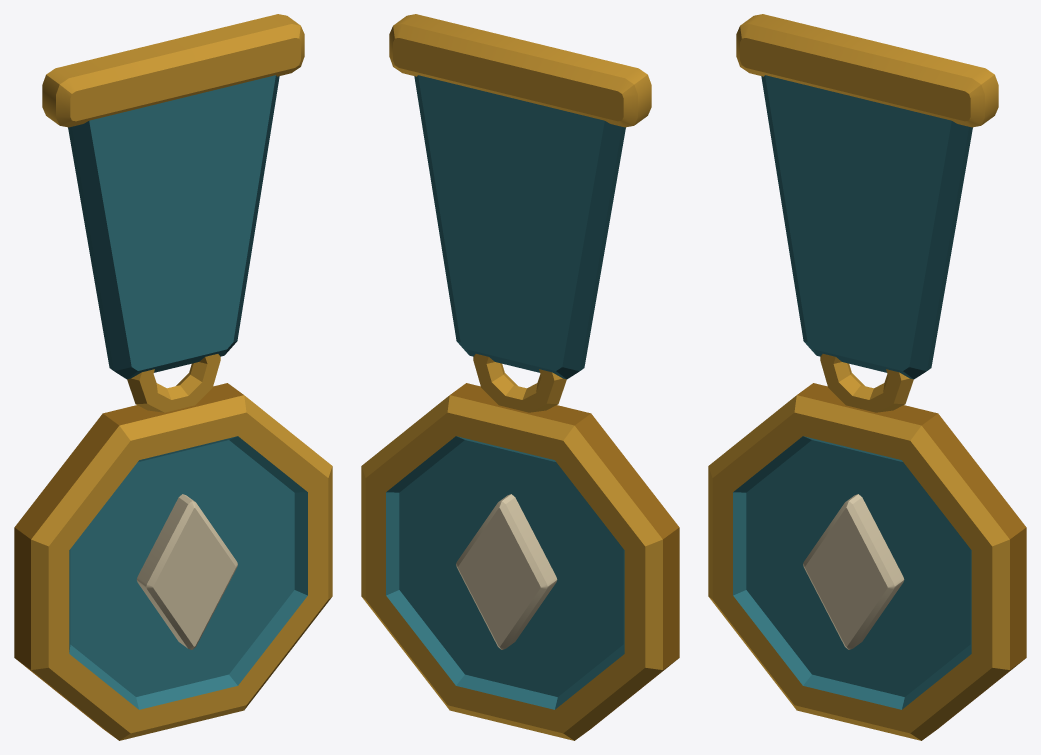
Rendered from Medal_36.glb.
The picture shows the model from 3 angles, left to right: view 1: azimuth 30°, elevation 25°; view 2: azimuth 150°, elevation 25°; view 3: azimuth 330°, elevation 25°; orthographic projection.
Parts seen in each view (by area): view 1: Medal_36; view 2: Medal_36; view 3: Medal_36.
Boxes of the visible parts, x1,y1,x2,y2 form: Medal_36: [14, 14, 332, 740]; Medal_36: [361, 14, 679, 740]; Medal_36: [708, 14, 1026, 740].
Bounding box in the file's own units: 1.15 × 2.46 × 0.28.
